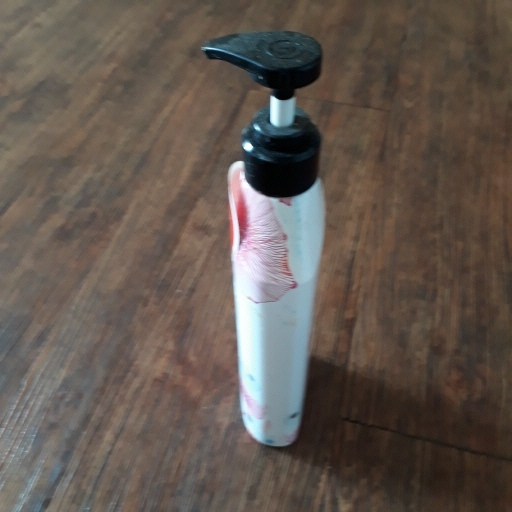Plastic_3: (197, 28, 327, 444)
